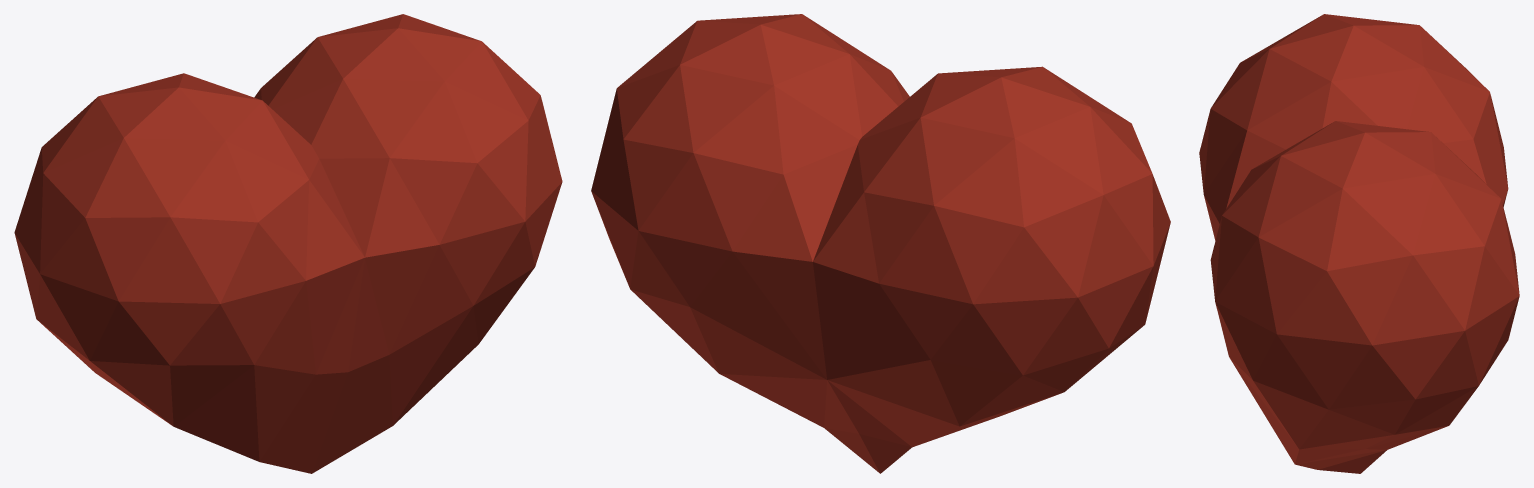
The model's file is Heart.obj.
The picture shows the model from 3 angles, left to right: view 1: azimuth 30°, elevation 25°; view 2: azimuth 150°, elevation 25°; view 3: azimuth 270°, elevation 25°; orthographic projection. The views are drawn at different scales.
Visible parts, largest first — view 1: Heart; view 2: Heart; view 3: Heart.
Boxes of the visible parts, x1=… form: Heart: x1=14, y1=14, x2=562, y2=473; Heart: x1=591, y1=14, x2=1170, y2=473; Heart: x1=1199, y1=14, x2=1519, y2=473.
Size of the model in its own units: 0.5559 by 0.4225 by 0.3107.
1 material, 1 textured.
